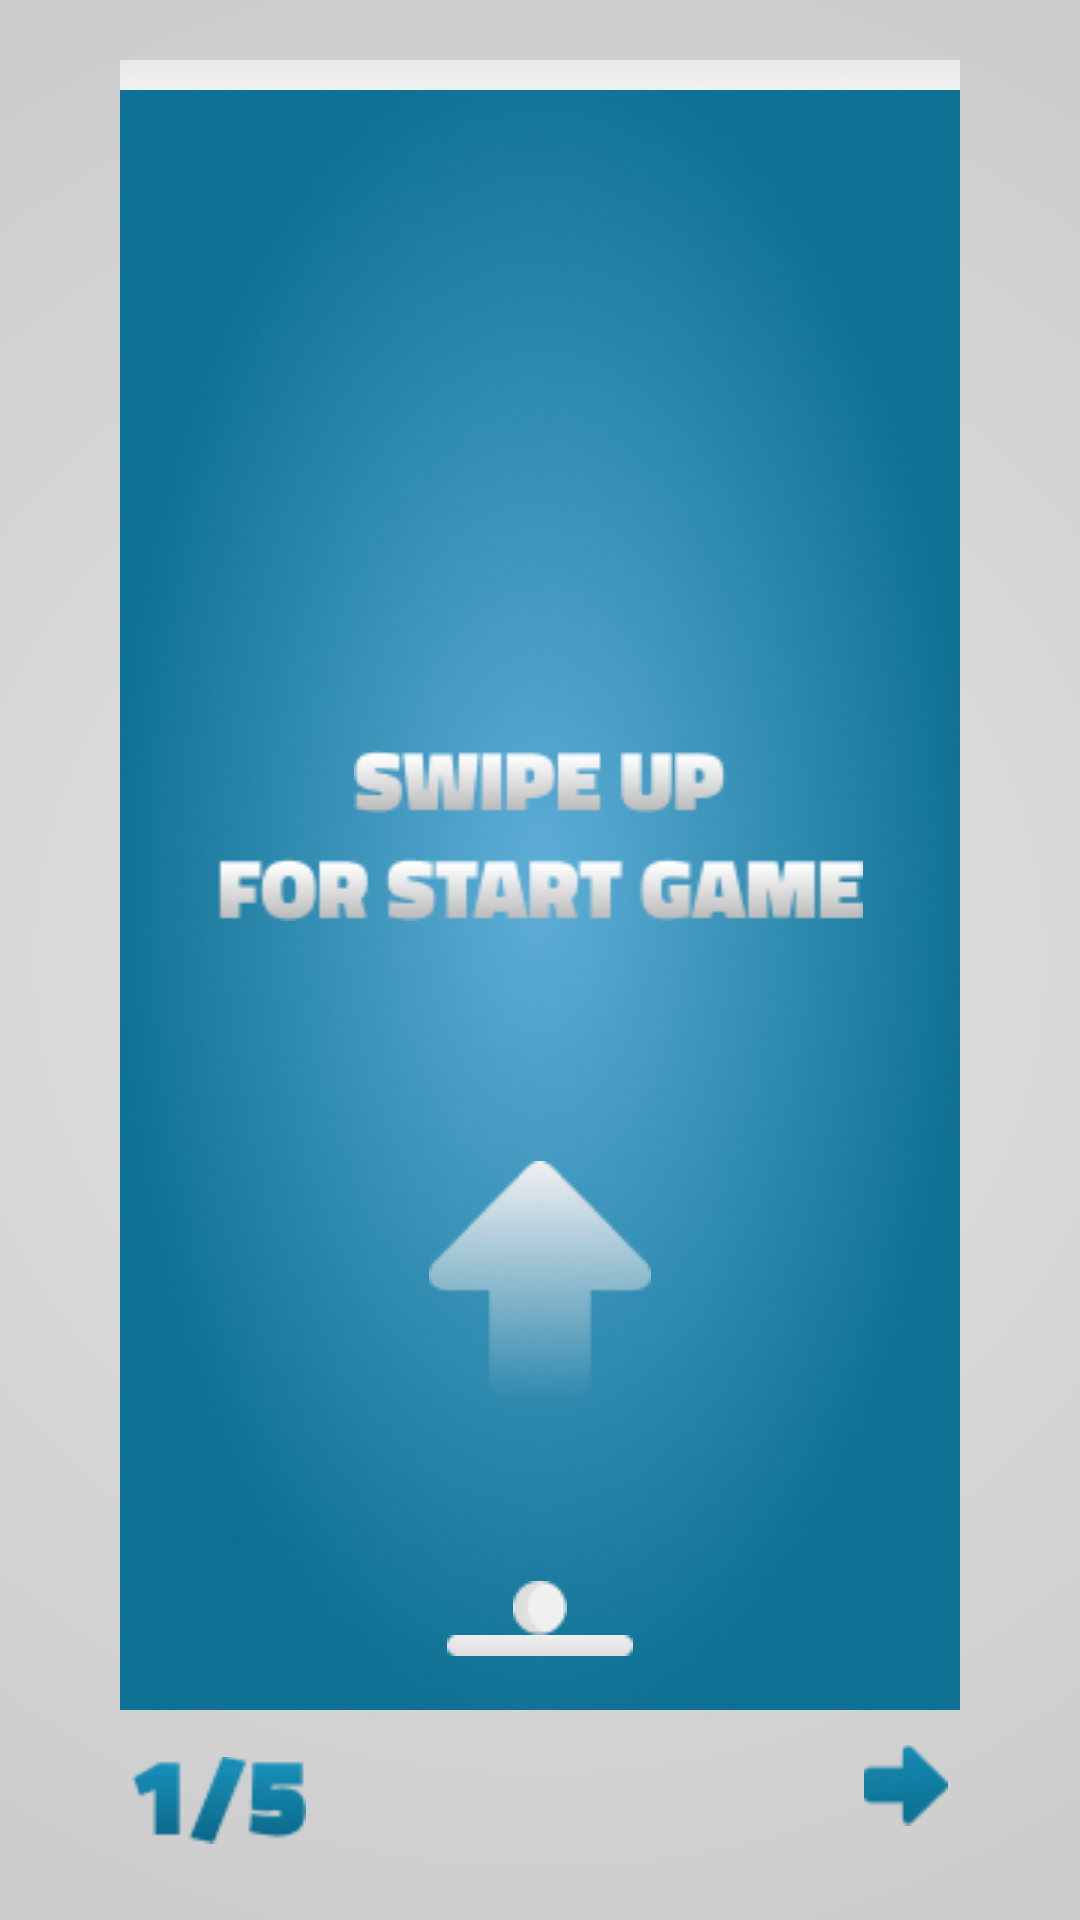

Icons on this 1080*1920 Android screen, each with the point to tap as (x=x, y=y):
right arrow: (x=906, y=1785)
tutorial ball: (x=540, y=1608)
